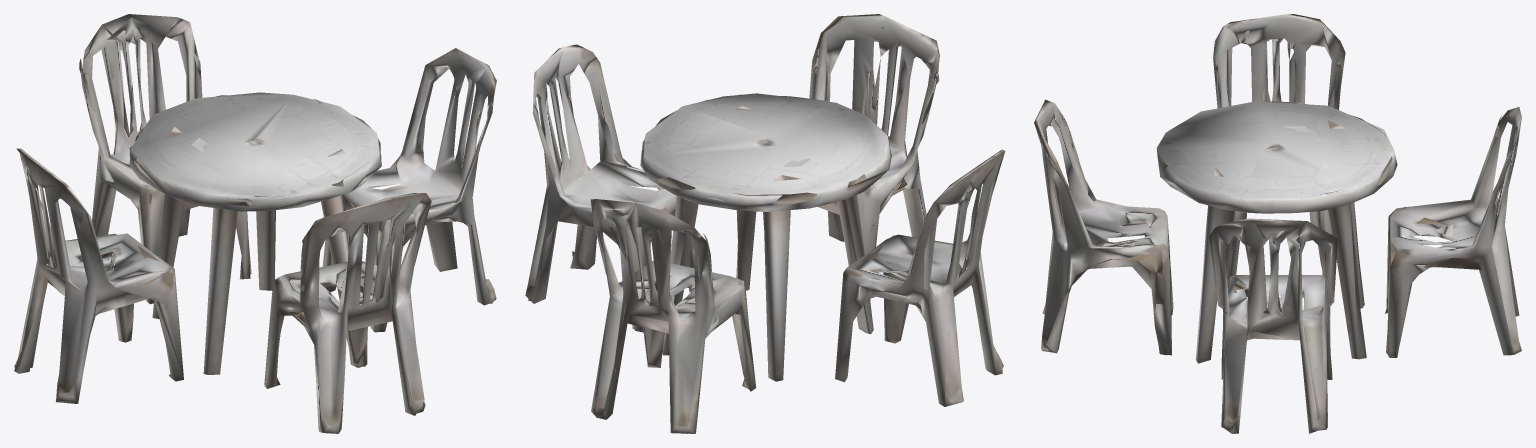
The model's file is monobloc-set.glb.
3 views of the same model, side by side, from view 1: azimuth 30°, elevation 25°; view 2: azimuth 150°, elevation 25°; view 3: azimuth 270°, elevation 25° (orthographic). The views are drawn at different scales.
Visible parts, largest first — view 1: geometry_0; view 2: geometry_0; view 3: geometry_0.
Boxes of the visible parts, x1,y1,x2,y2 form: geometry_0: (14,14,496,433); geometry_0: (525,14,1005,433); geometry_0: (1034,14,1521,433).
Bounding box in the file's own units: 2.03 × 1 × 2.03.
Materials: 1 (1 with a texture image).
